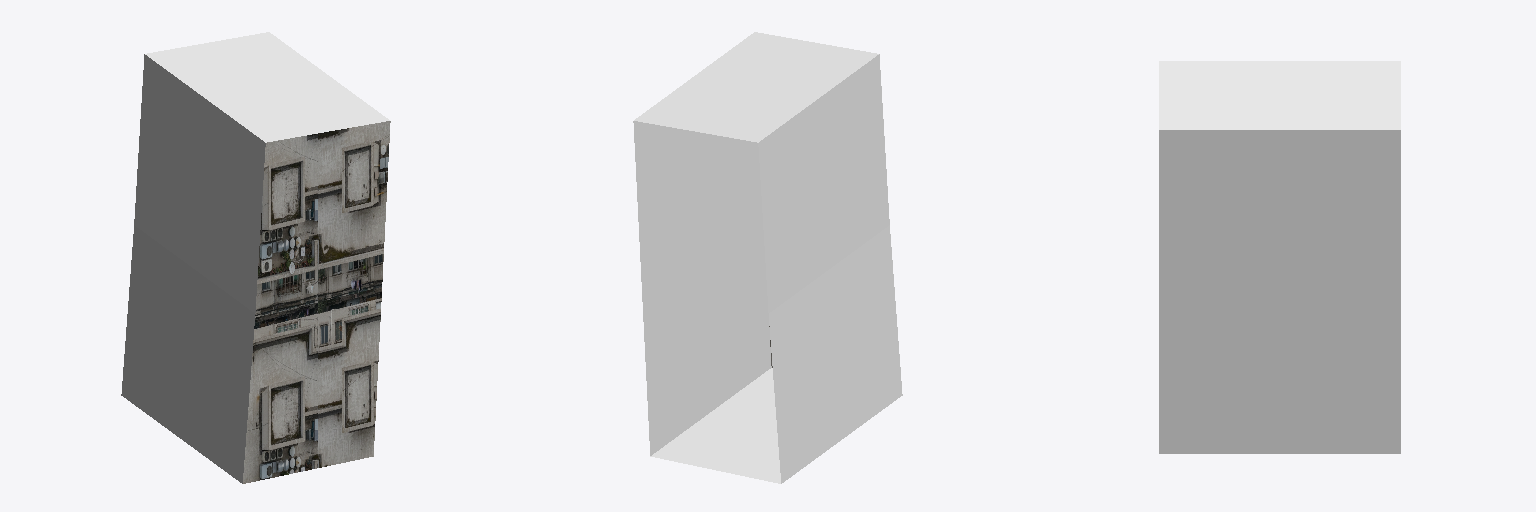
The picture shows the model from 3 angles: view 1: azimuth 30°, elevation 25°; view 2: azimuth 150°, elevation 25°; view 3: azimuth 270°, elevation 25°; orthographic projection.
Visible parts, largest first — view 1: Building; view 2: Building; view 3: Building.
Part boxes in pixels (bbox=[...]): Building: bbox=[121, 32, 390, 483]; Building: bbox=[633, 32, 902, 483]; Building: bbox=[1159, 61, 1400, 453].
Bounding box in the file's own units: 12.67 × 27.85 × 18.
Materials: 2 (1 with a texture image).